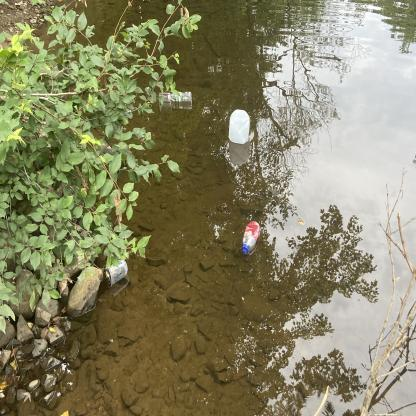trash: (99, 254, 131, 294), (226, 106, 255, 146), (239, 216, 263, 257), (166, 84, 195, 110), (152, 87, 172, 103)
